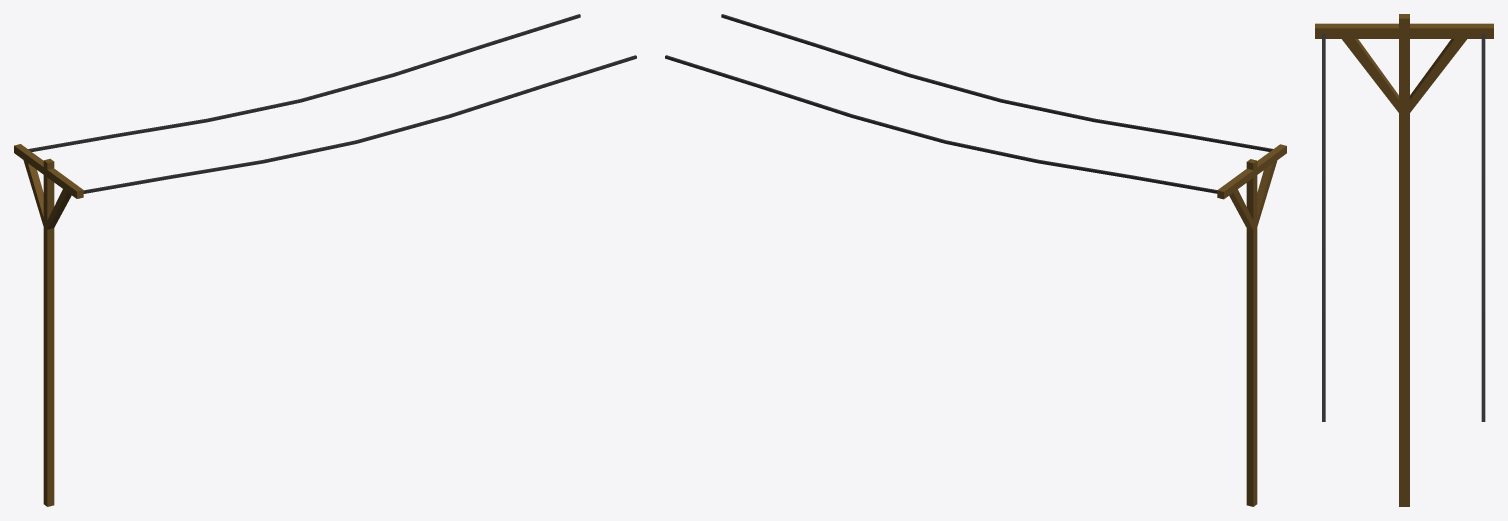
File: co_ElectricPoleWithCables.fbx
The picture shows the model from 3 angles, left to right: view 1: azimuth 30°, elevation 25°; view 2: azimuth 150°, elevation 25°; view 3: azimuth 270°, elevation 25°; orthographic projection. The views are drawn at different scales.
Visible parts, largest first — view 1: ElectricPoleWithCables; view 2: ElectricPoleWithCables; view 3: ElectricPoleWithCables.
Part boxes in pixels (x1,y1,x2,y2): ElectricPoleWithCables: (14,14,636,506); ElectricPoleWithCables: (665,14,1286,506); ElectricPoleWithCables: (1315,14,1493,506).
Bounding box in the file's own units: 3312 × 1935 × 642.
